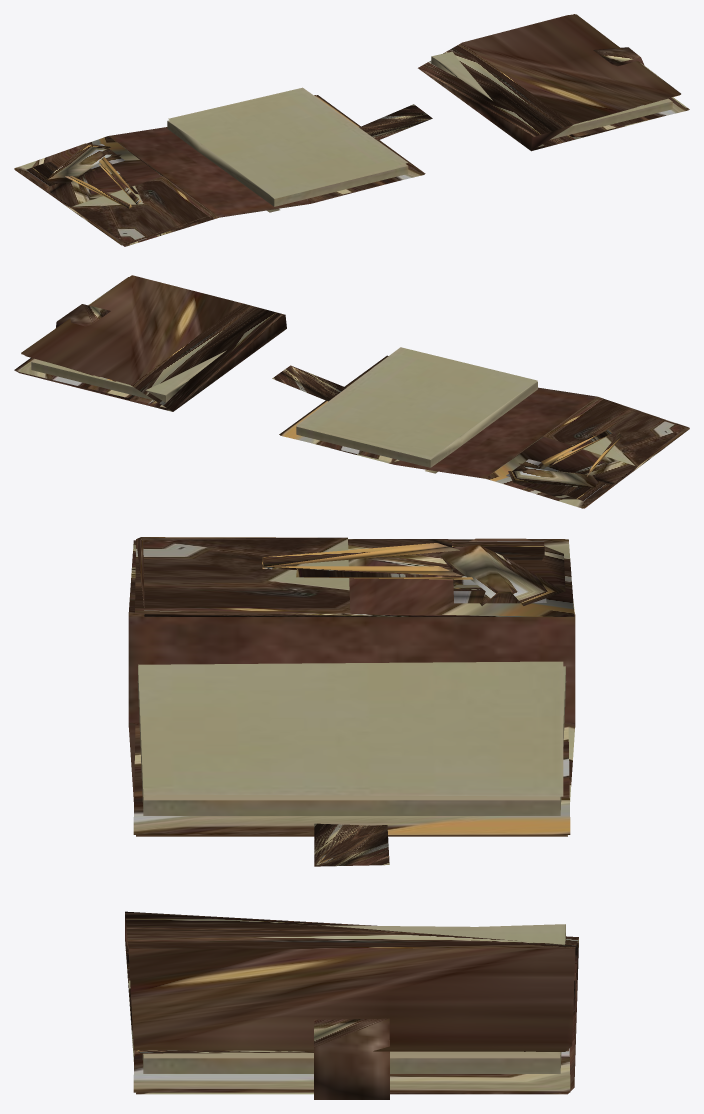
Rendered from binder_notebook.glb.
The picture shows the model from 3 angles, top to bottom: view 1: azimuth 30°, elevation 25°; view 2: azimuth 150°, elevation 25°; view 3: azimuth 270°, elevation 25°; orthographic projection. The views are drawn at different scales.
Parts seen in each view (by area): view 1: binder_notebook, binder_notebook_closed; view 2: binder_notebook, binder_notebook_closed; view 3: binder_notebook, binder_notebook_closed.
Boxes of the visible parts, x1,y1,x2,y2 form: binder_notebook: (14,87,432,246); binder_notebook_closed: (418,14,689,151); binder_notebook: (272,347,689,508); binder_notebook_closed: (14,275,286,411); binder_notebook: (128,537,575,866); binder_notebook_closed: (125,911,578,1099).
Size of the model in its own units: 0.5795 by 0.0229 by 0.1991.
Materials: 1 (1 with a texture image).
